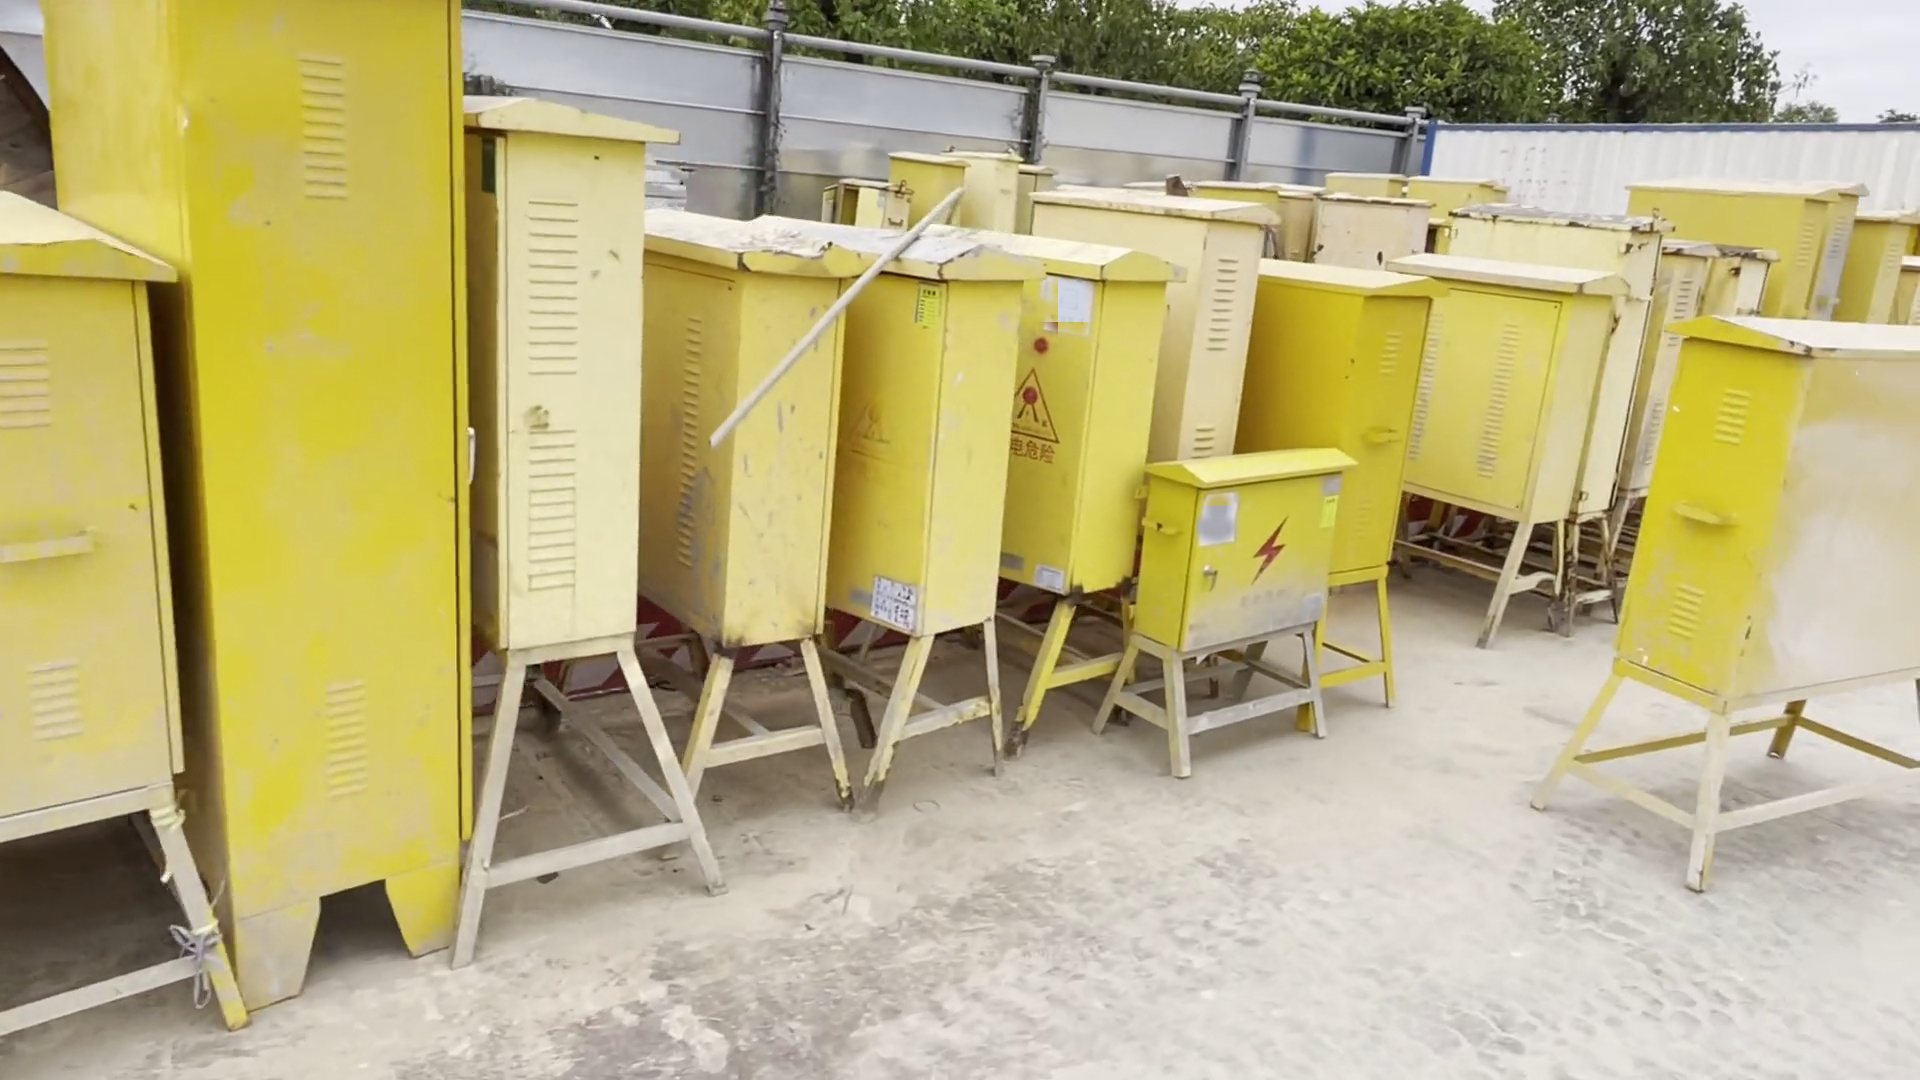ebox: (57, 1, 504, 956), (448, 83, 727, 952), (1, 187, 274, 1055), (1559, 307, 1920, 882), (637, 181, 864, 829), (771, 204, 1011, 782), (931, 216, 1133, 735), (1097, 438, 1374, 781), (1393, 262, 1623, 644), (1241, 255, 1400, 698), (1044, 193, 1238, 468), (1634, 174, 1811, 316)
